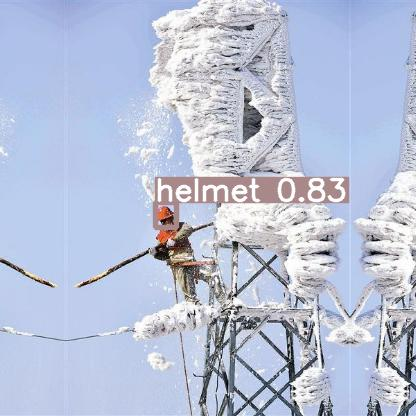helmet: (155, 202, 176, 227)
